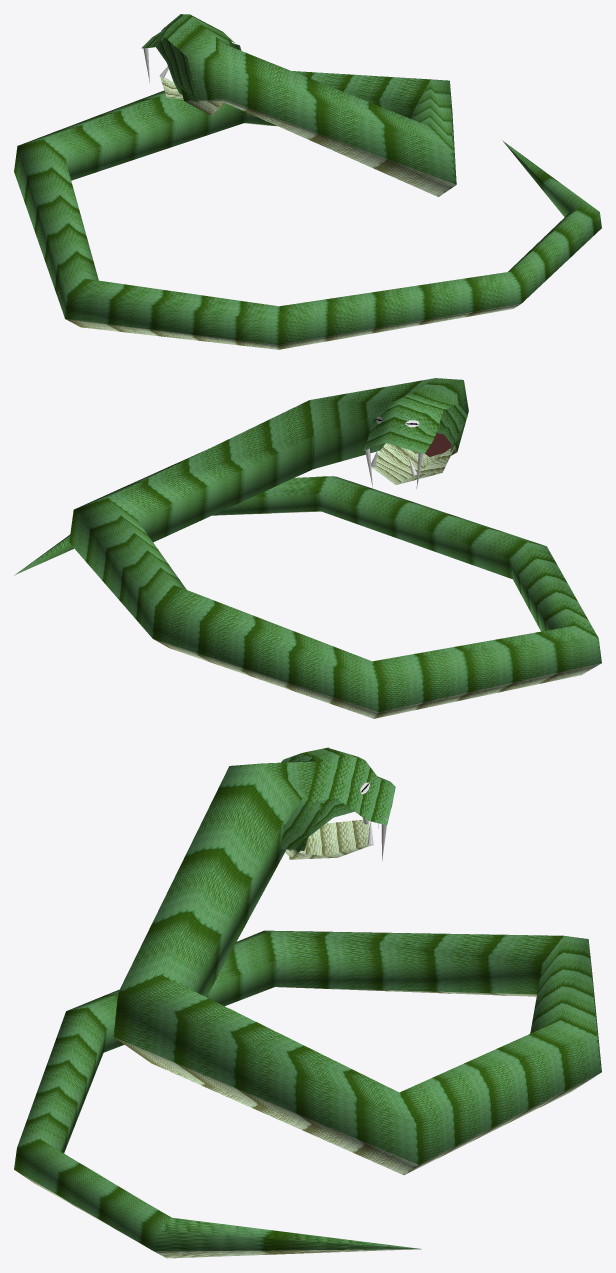
File: boss.fbx
The picture shows the model from 3 angles, top to bottom: view 1: azimuth 30°, elevation 25°; view 2: azimuth 150°, elevation 25°; view 3: azimuth 270°, elevation 25°; orthographic projection. The views are drawn at different scales.
Visible parts, largest first — view 1: polySurface6; view 2: polySurface6; view 3: polySurface6.
Part boxes in pixels (x1,y1,x2,y2): polySurface6: [14, 14, 601, 349]; polySurface6: [14, 378, 601, 718]; polySurface6: [14, 747, 601, 1258].
Bounding box in the file's own units: 8.34 × 4.07 × 6.85.
5 materials, 3 textured.
